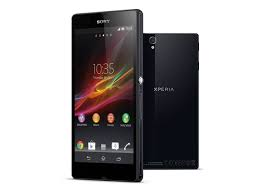sony: (68, 6, 147, 184), (143, 32, 201, 171)
